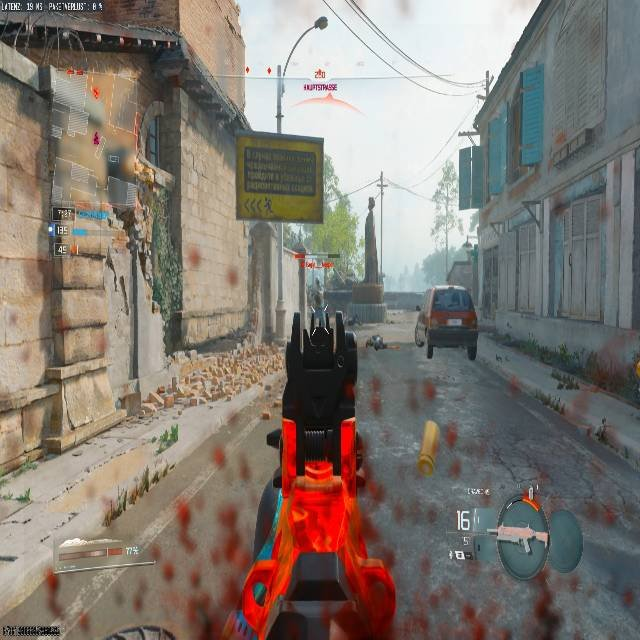player: (348, 312, 360, 329)
